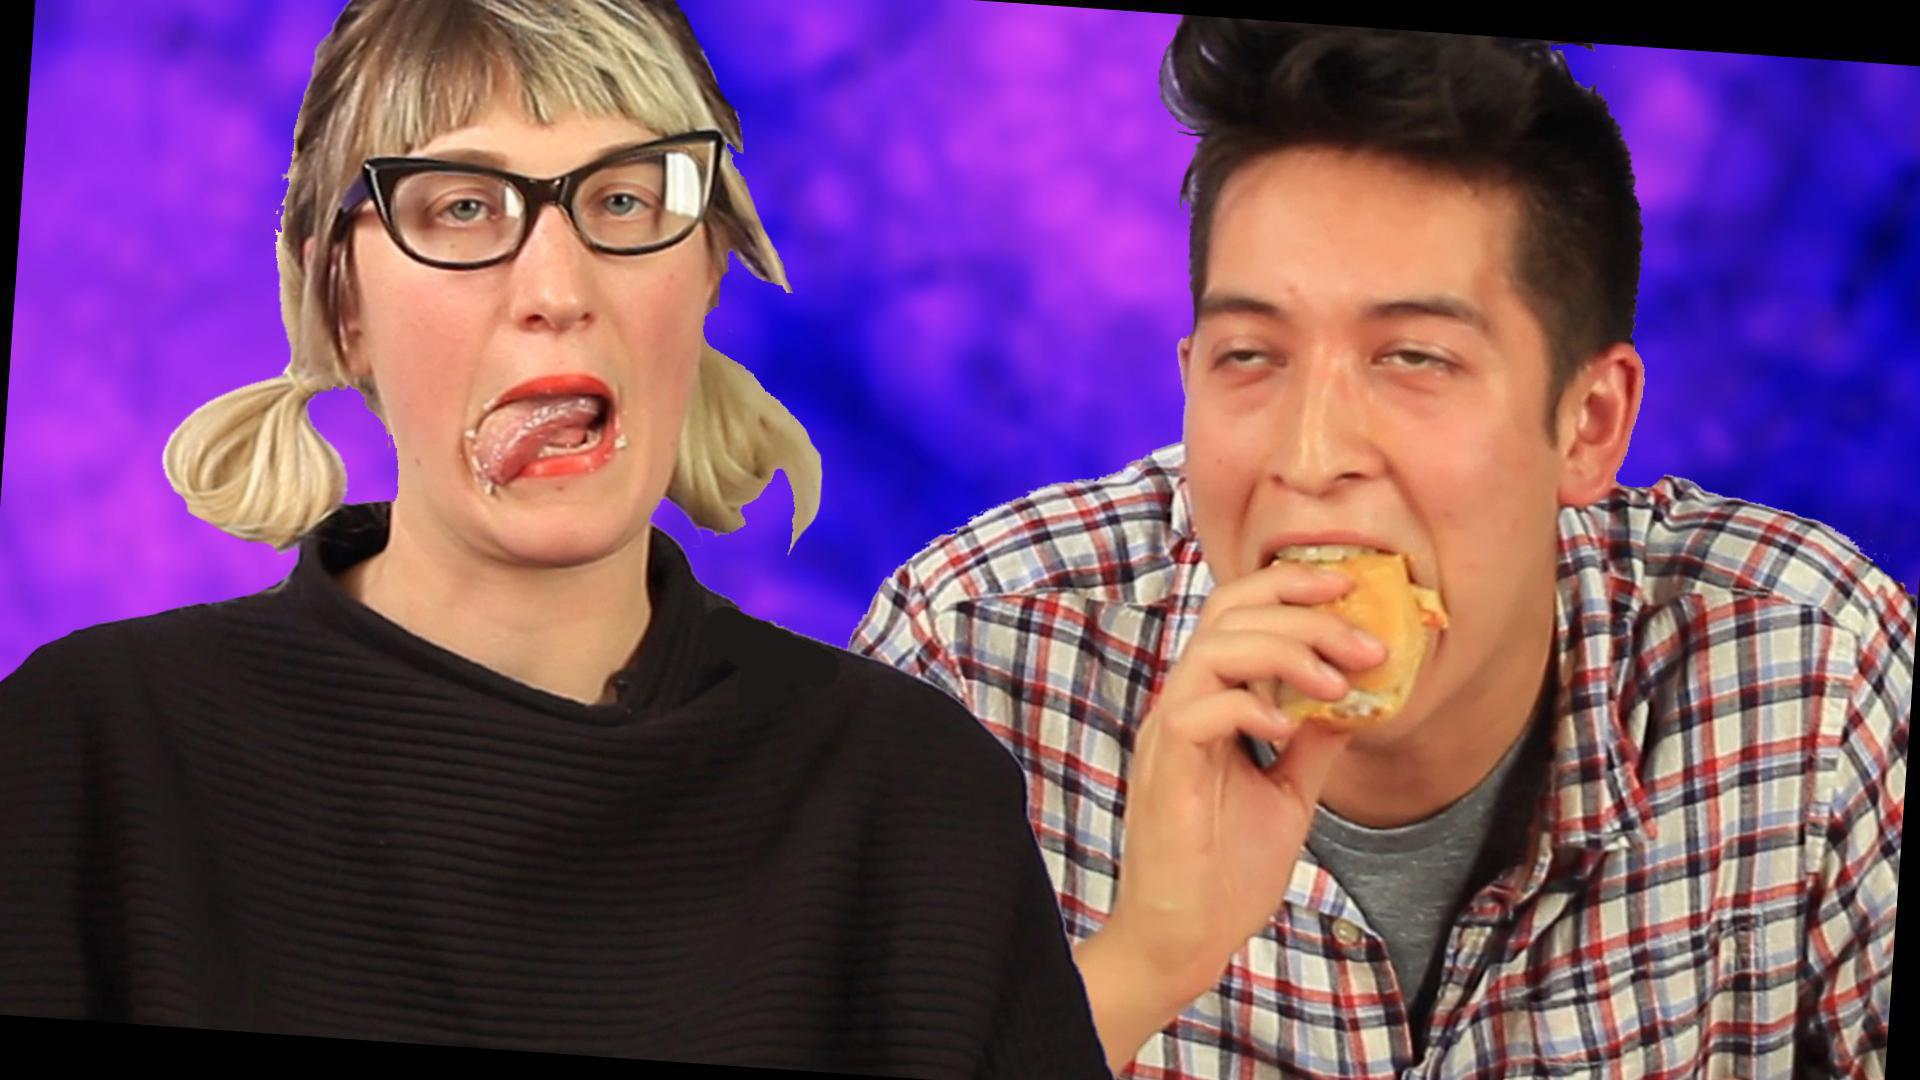Drunk: (1193, 175, 1526, 705), (393, 133, 707, 549)
